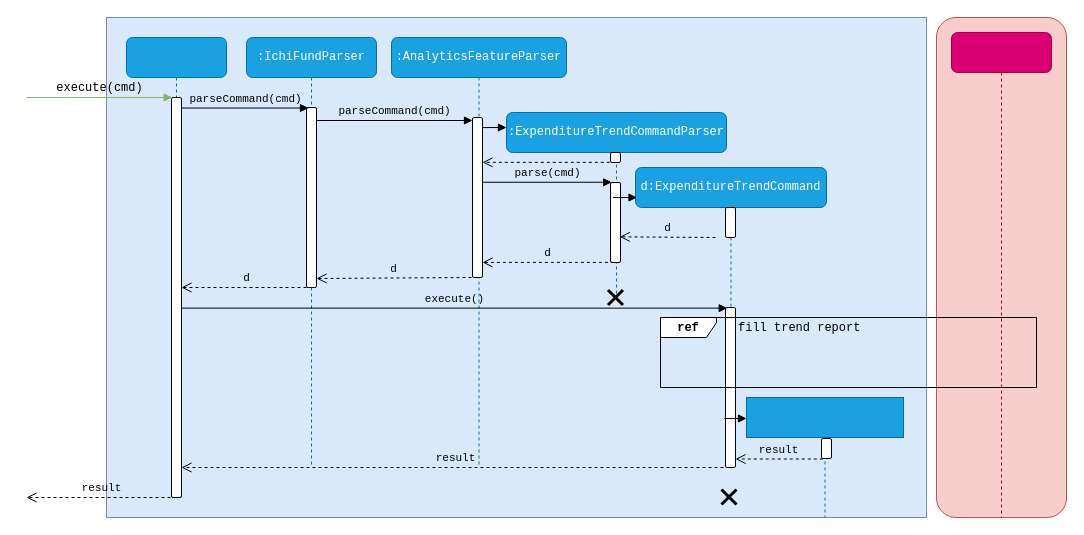
Image size: 1084x535. Some labels were removed from this diagram. Each missing label, with the box of its shape:
:LogicManager: (126, 36, 226, 498)
:Model: (950, 32, 1052, 518)
result:CommandResult: (746, 396, 904, 518)
